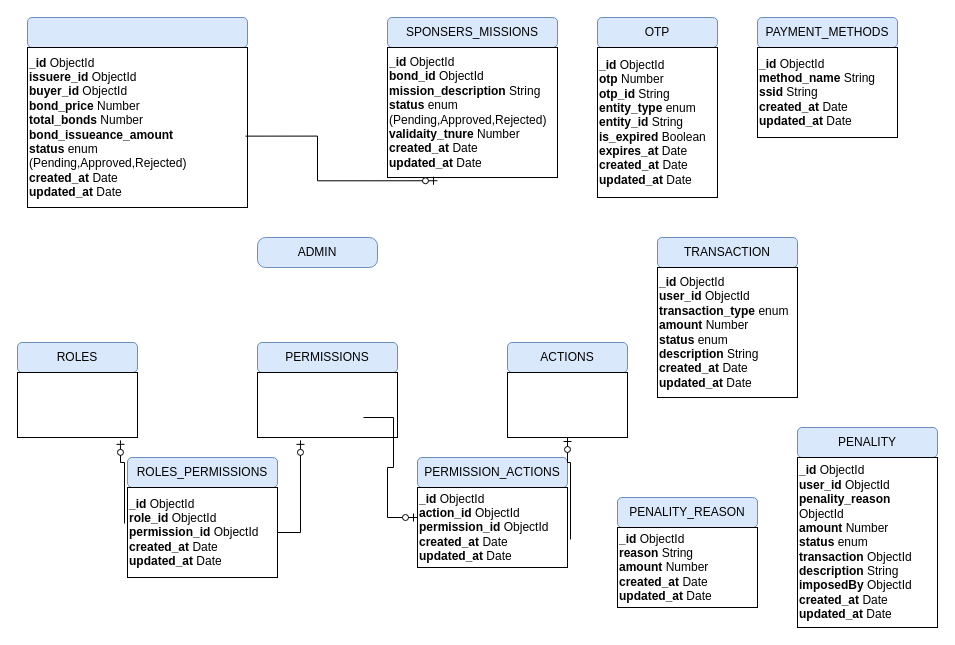
The diagram is 955 pixels wide and 645 high, and some of its shapes have lost their labels. Here are the shapes that lost their labels. From the top down, the centre of each, then its label:
the point at 137,32: SPONSER_BONDS
the point at 77,405: _id ObjectId role_name String created_at Date updated_at Date
the point at 327,405: _id ObjectId permission_name String created_at Date updated_at Date
the point at 567,405: _id ObjectId action_name String created_at Date updated_at Date
